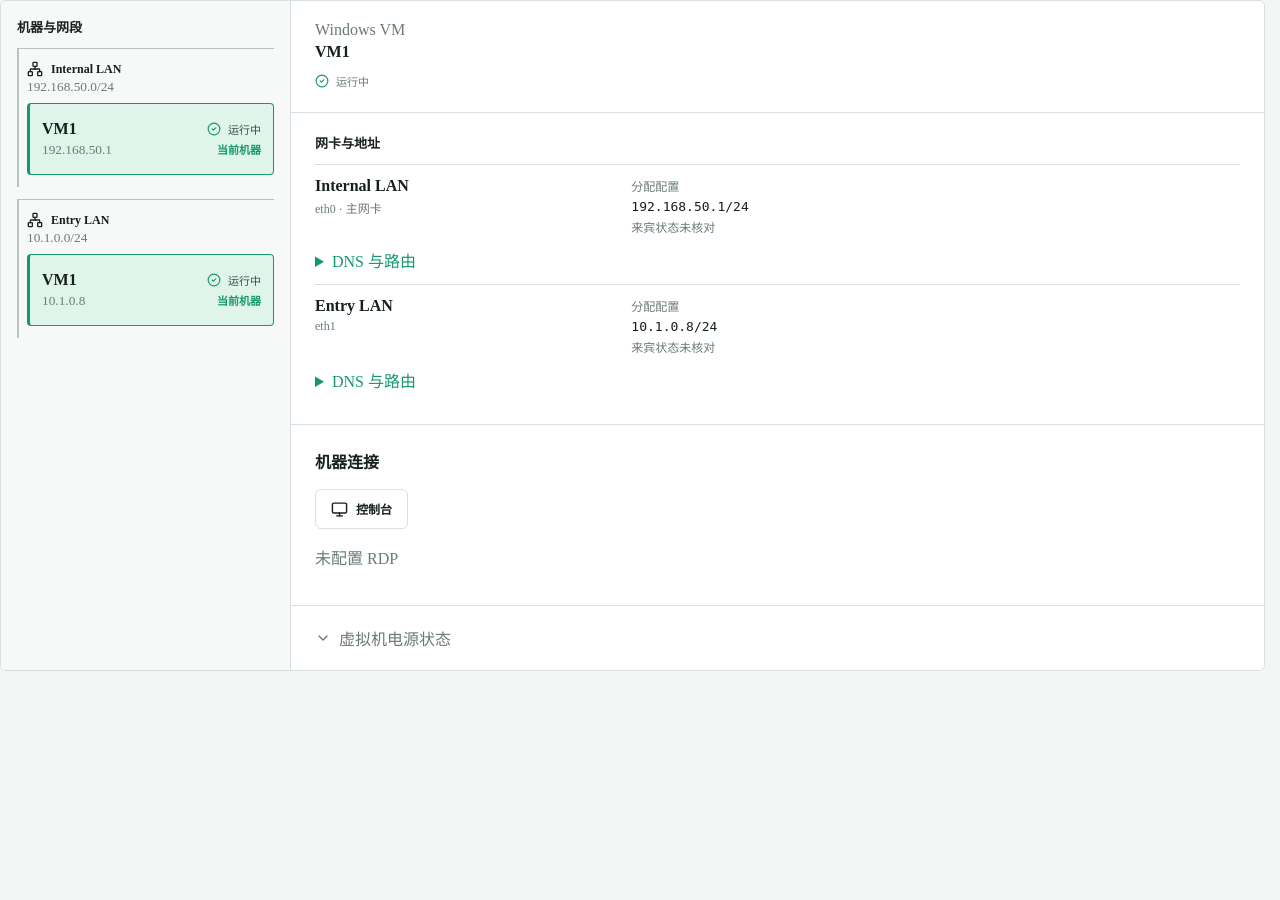
it: RuntimeAssetWorkspace asset switching › shows each allocated NIC separately without borrowing the network gateway or primary IP
Expected: the element "网卡与地址" shows "192.168.50.1/24", [631,199,749,214]
Expected: the element "网卡与地址" shows "10.1.0.8/24", [631,319,717,334]
Click the heading "DNS 与路由" below "10.1.0.8/24".
click(374, 382)  # box [332,373,416,390]
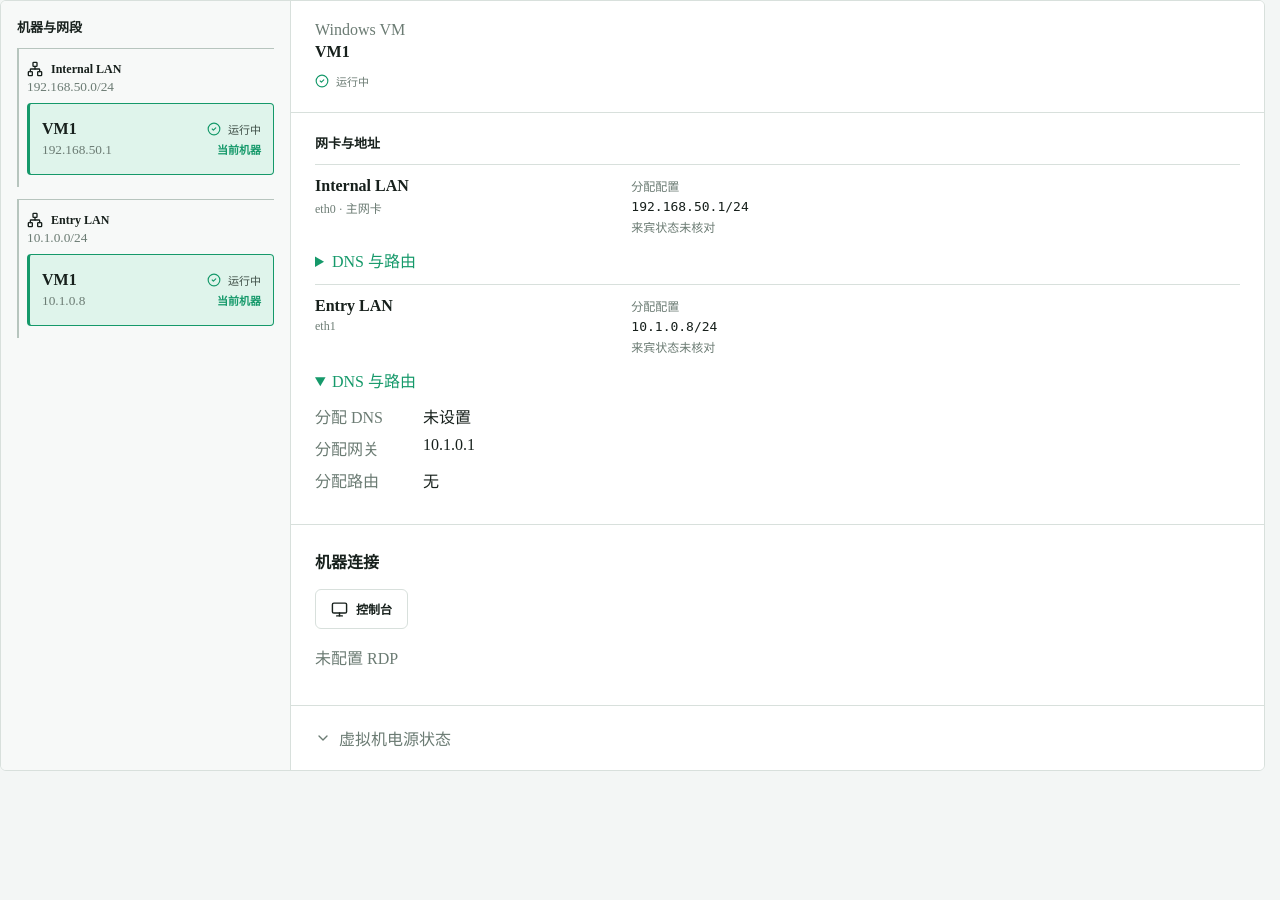
Expected: the element "网卡与地址" does not show "10.1.0.254", [291,113,1264,525]
Now the element "网卡与地址" shows "10.1.0.1", box [423,436,475,453]
